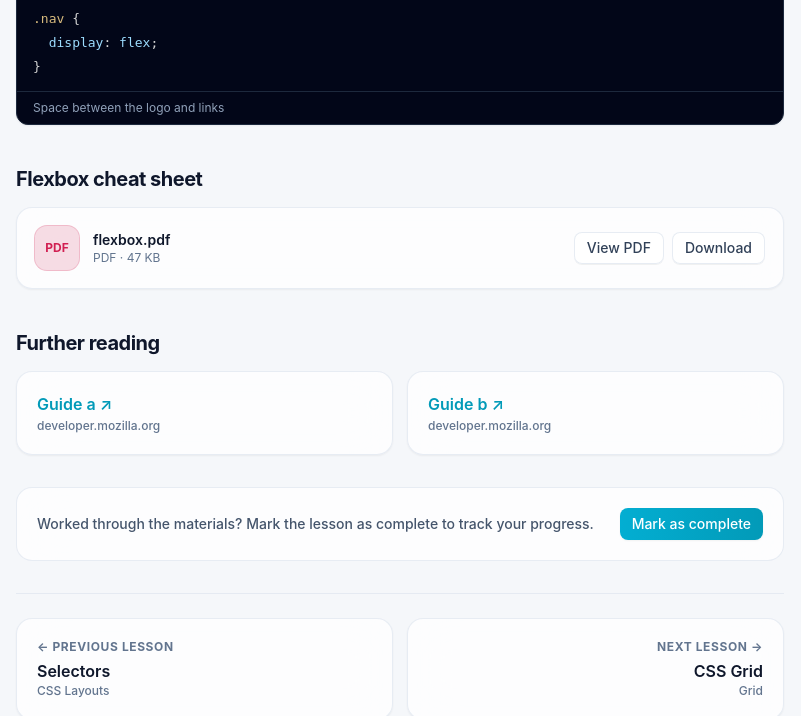
Test: LessonReaderPage › shows the server's refusal and keeps the lesson incomplete
This screenshot has width=801, height=716.
(page scrolled)
Click the button "Mark as complete" at (691, 524), box [620,508,763,540]
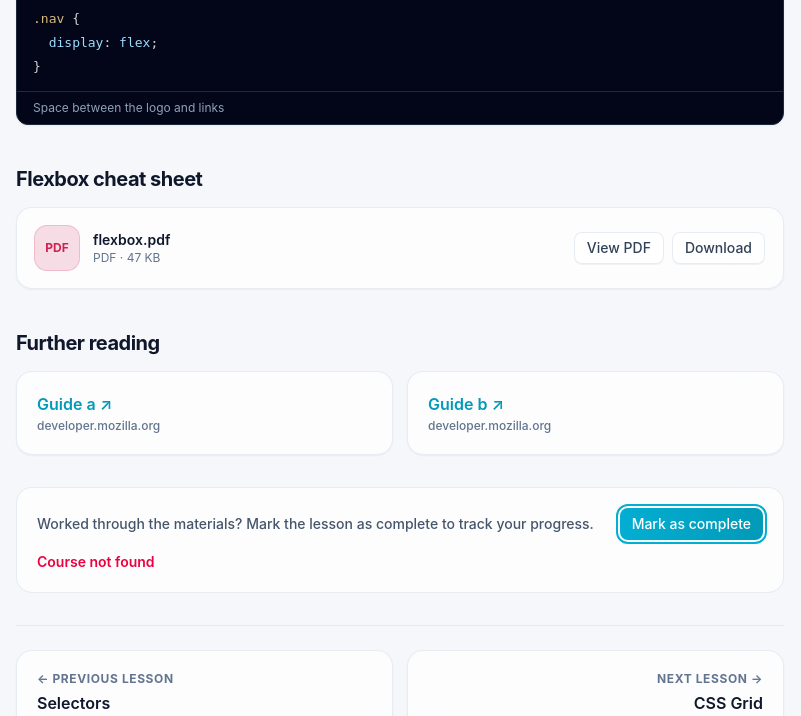
Check: the text "Course not found" is shown, box [37,553,154,570]
